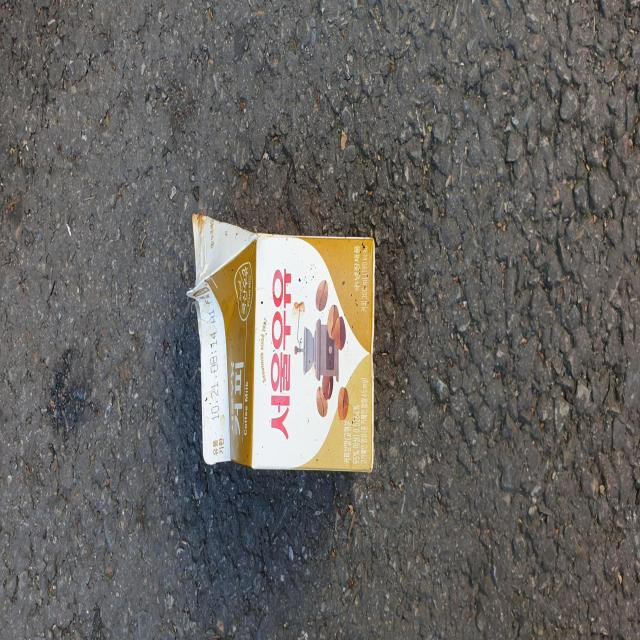paperpack: (187, 214, 375, 471)
